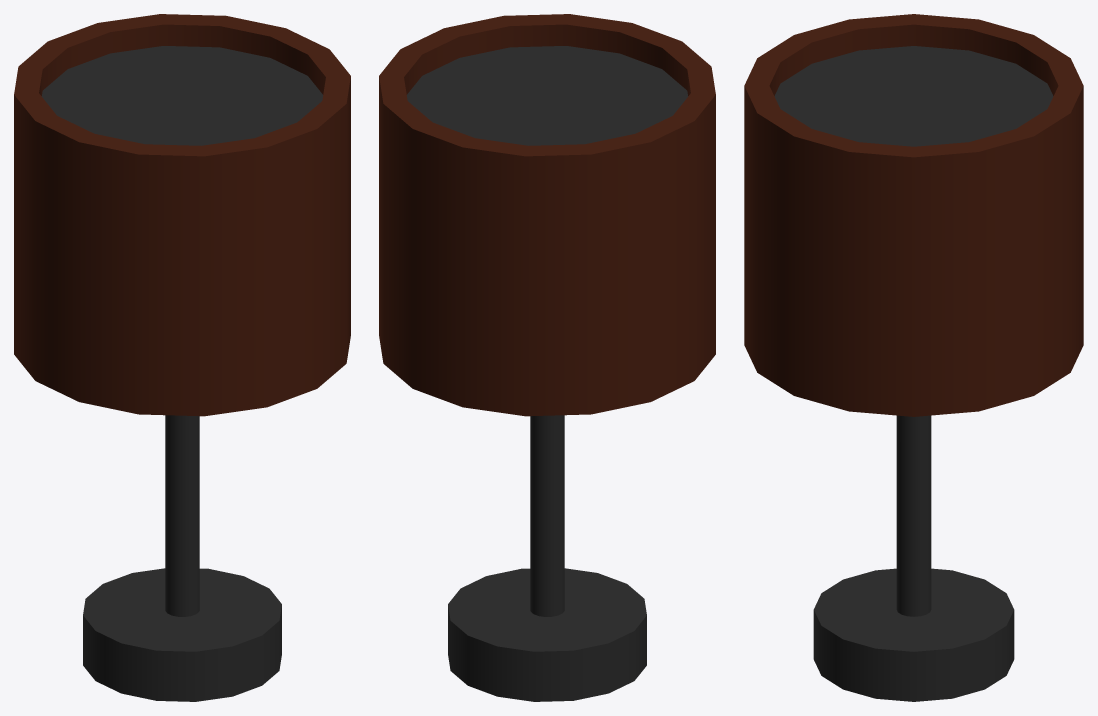
Rendered from LampeDeChevet.fbx.
3 renders of one model, left to right at view 1: azimuth 30°, elevation 25°; view 2: azimuth 150°, elevation 25°; view 3: azimuth 270°, elevation 25°, orthographic.
Parts seen in each view (by area): view 1: LampeDeChevet; view 2: LampeDeChevet; view 3: LampeDeChevet.
Boxes of the visible parts, x1,y1,x2,y2 form: LampeDeChevet: [14, 14, 350, 701]; LampeDeChevet: [379, 14, 715, 701]; LampeDeChevet: [744, 14, 1083, 701].
Size of the model in its own units: 37 by 69.06 by 37.
